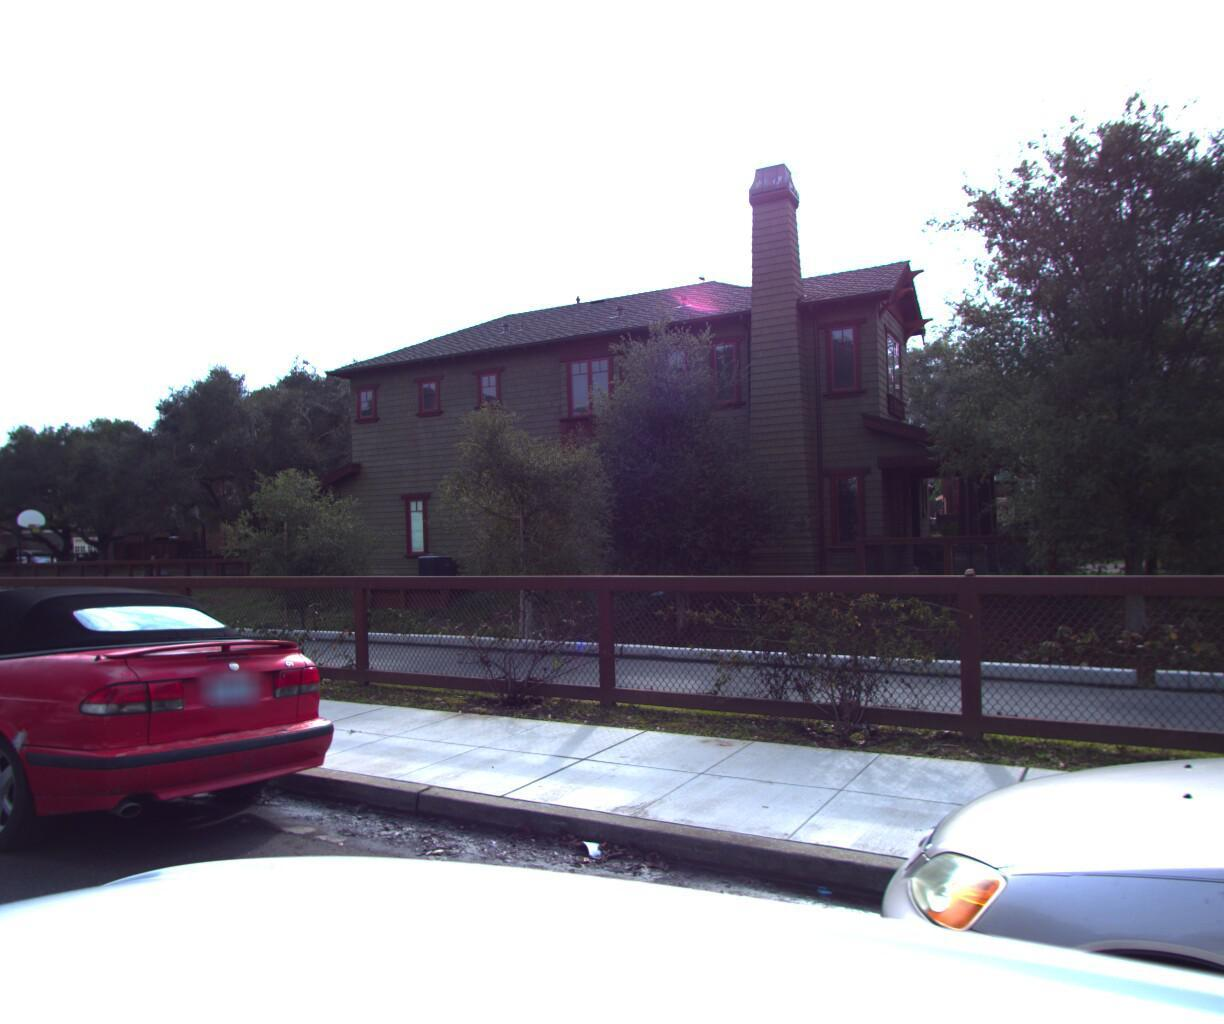car: (0, 566, 364, 892)
